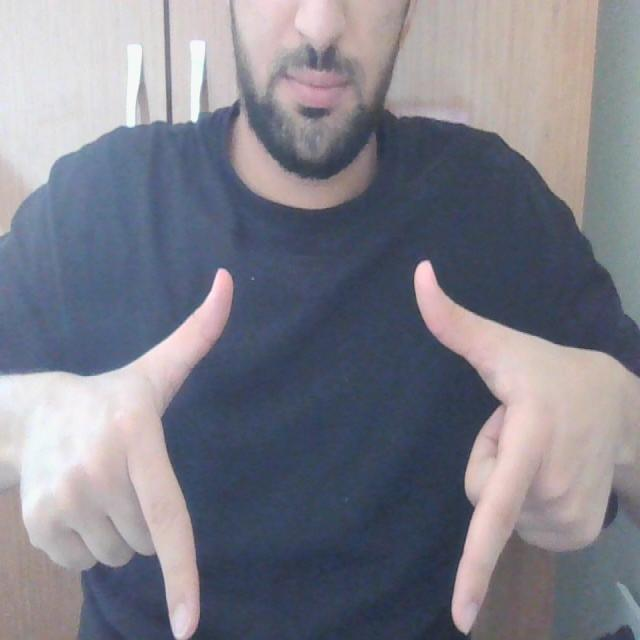Nerede: (114, 250, 547, 640)
